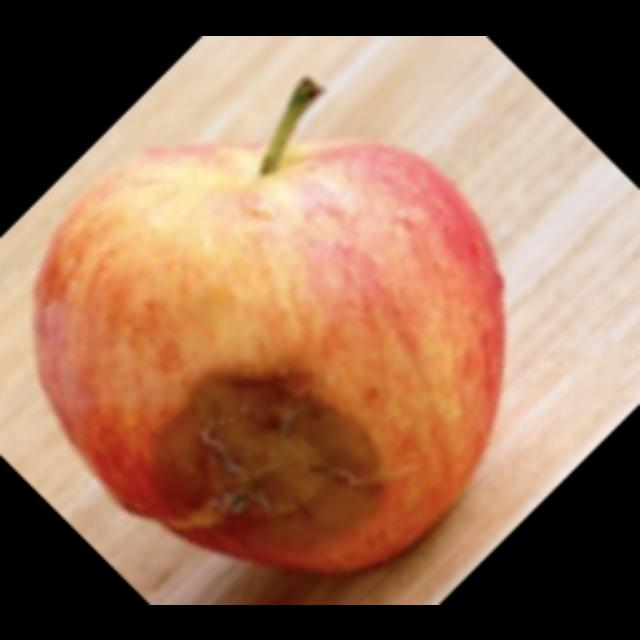Apel Segar: (33, 139, 484, 340)
Apel Tidak Segar: (83, 323, 445, 578), (477, 260, 514, 321)
